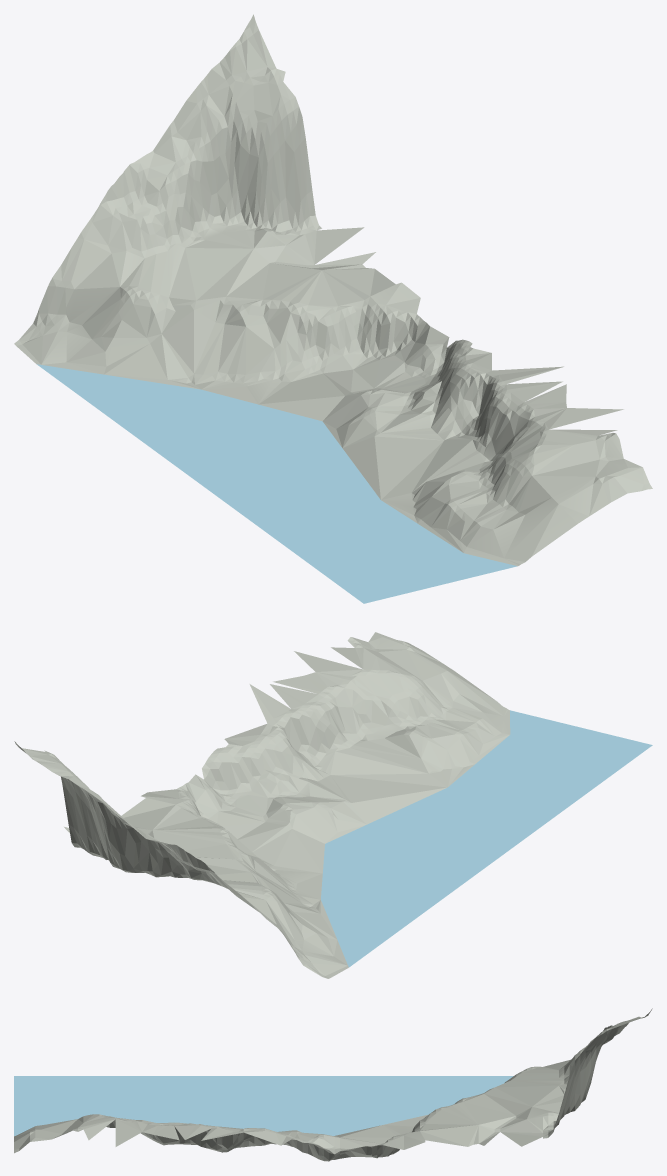
Rendered from terrain-context-A-x-3-z-4.glb.
3 renders of one model, top to bottom at view 1: azimuth 30°, elevation 25°; view 2: azimuth 150°, elevation 25°; view 3: azimuth 270°, elevation 25°, orthographic. The views are drawn at different scales.
Visible parts, largest first — view 1: A-x-3-z-4; view 2: A-x-3-z-4; view 3: A-x-3-z-4.
Part boxes in pixels (x1,y1,x2,y2): A-x-3-z-4: (14,14,652,603); A-x-3-z-4: (14,632,652,978); A-x-3-z-4: (14,1008,652,1161).
Size of the model in its own units: 28 by 18.79 by 59.8.
